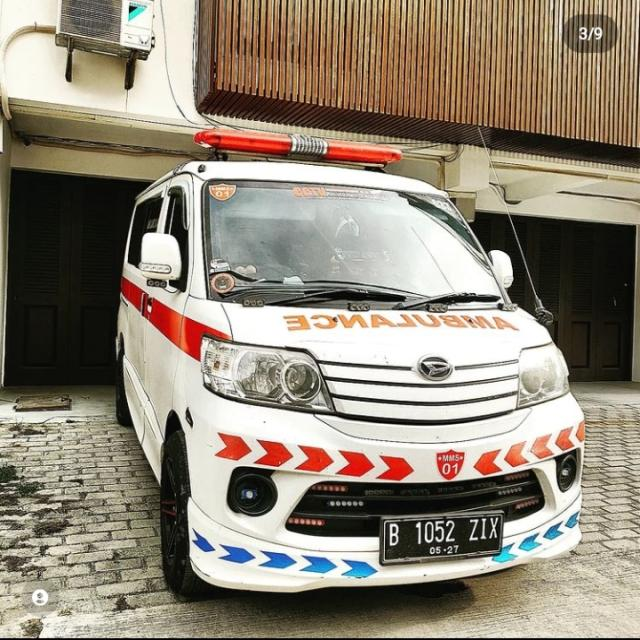emergency-vehicle: (100, 118, 604, 610)
